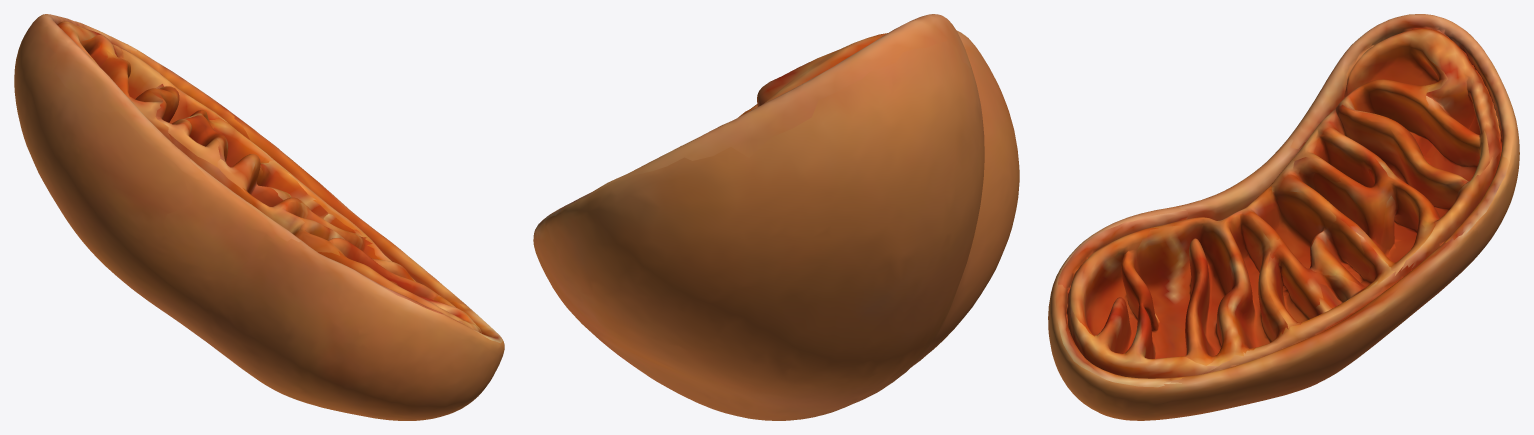
Rendered from animal-mitochondrion.glb.
The picture shows the model from 3 angles, left to right: view 1: azimuth 30°, elevation 25°; view 2: azimuth 150°, elevation 25°; view 3: azimuth 270°, elevation 25°; orthographic projection. The views are drawn at different scales.
Visible parts, largest first — view 1: mitochondrion_original_component; view 2: mitochondrion_original_component; view 3: mitochondrion_original_component.
Part boxes in pixels (bbox=[...]): mitochondrion_original_component: bbox=[14, 14, 504, 420]; mitochondrion_original_component: bbox=[533, 14, 1019, 420]; mitochondrion_original_component: bbox=[1048, 14, 1519, 420].
Bounding box in the file's own units: 0.1189 × 0.1177 × 0.1651.
Materials: 1 (1 with a texture image).
